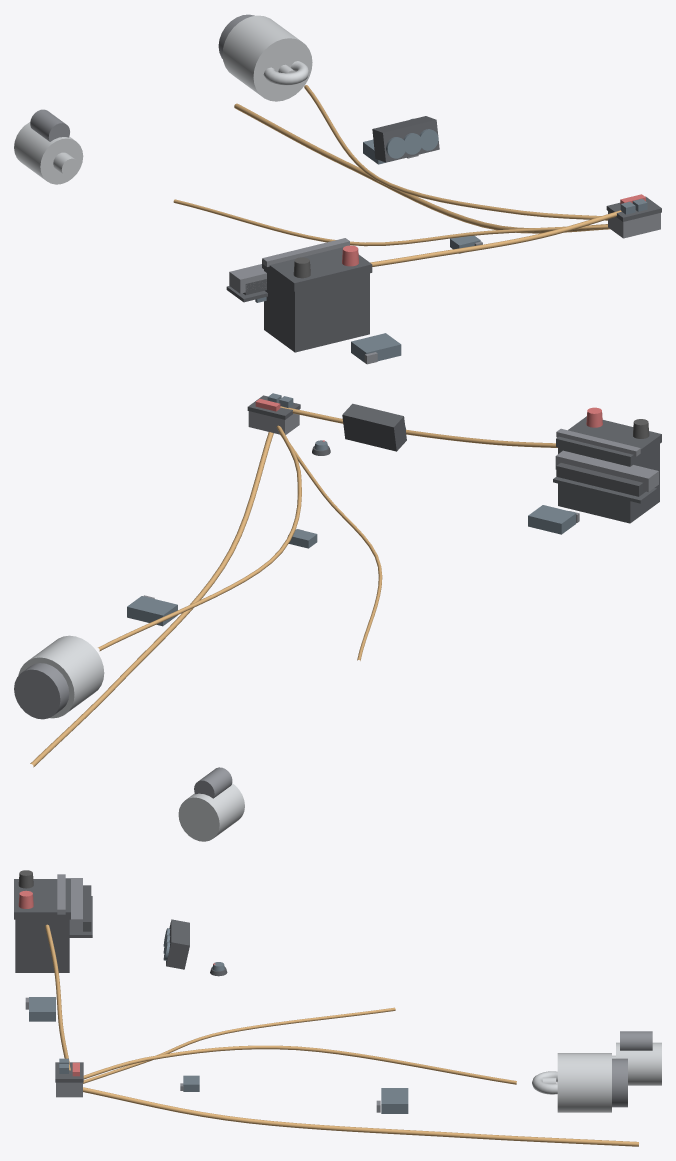
Rendered from elec.glb.
The picture shows the model from 3 angles, top to bottom: view 1: azimuth 30°, elevation 25°; view 2: azimuth 150°, elevation 25°; view 3: azimuth 270°, elevation 25°; orthographic projection. The views are drawn at different scales.
Visible parts, largest first — view 1: body (×2), case, housing (×3), lid (×2), harnessJunctionToStarter, harnessJunctionToModules, harnessAlternatorToJunction, harnessBatteryToJunction, solenoid, holdDown, cabinFilterSlot, pulley; view 2: body (×2), housing (×4), case, rearHousing, harnessJunctionToStarter, lid, harnessAlternatorToJunction, cabinFilterSlot, frame, harnessBatteryToJunction, harnessJunctionToModules, solenoid (+2 smaller); view 3: body (×2), harnessJunctionToStarter, housing (×4), case, harnessAlternatorToJunction, lid, harnessJunctionToModules, rearHousing, harnessBatteryToJunction, cabinFilterSlot, solenoid, pulley (+1 smaller).
Boxes of the visible parts, x1,y1,x2,y2 form: body (×2): [14, 15, 312, 184]; case: [264, 269, 369, 352]; housing (×3): [351, 116, 660, 362]; lid (×2): [262, 196, 661, 291]; harnessJunctionToStarter: [234, 103, 609, 233]; harnessJunctionToModules: [173, 199, 609, 246]; harnessAlternatorToJunction: [304, 85, 607, 220]; harnessBatteryToJunction: [370, 210, 621, 266]; solenoid: [30, 109, 69, 141]; holdDown: [262, 238, 349, 266]; cabinFilterSlot: [229, 264, 266, 293]; pulley: [263, 61, 309, 85]; body (×2): [18, 635, 244, 841]; housing (×4): [127, 403, 576, 626]; case: [558, 444, 659, 523]; rearHousing: [14, 663, 69, 719]; harnessJunctionToStarter: [30, 432, 273, 767]; lid: [556, 416, 661, 464]; harnessAlternatorToJunction: [98, 425, 301, 651]; cabinFilterSlot: [555, 450, 658, 491]; frame: [556, 463, 645, 496]; harnessBatteryToJunction: [280, 406, 557, 447]; harnessJunctionToModules: [280, 434, 382, 660]; solenoid: [194, 767, 232, 798]; body (×2): [557, 1042, 661, 1112]; harnessJunctionToStarter: [83, 1087, 638, 1146]; housing (×4): [29, 919, 408, 1113]; case: [15, 919, 69, 972]; harnessAlternatorToJunction: [83, 1045, 516, 1084]; lid: [14, 879, 70, 919]; harnessJunctionToModules: [83, 1007, 395, 1083]; rearHousing: [612, 1058, 627, 1107]; harnessBatteryToJunction: [45, 924, 70, 1070]; cabinFilterSlot: [65, 878, 82, 931]; solenoid: [620, 1031, 652, 1050]; pulley: [532, 1071, 557, 1094].
Size of the model in its own units: 1.55 by 0.786 by 2.39.
